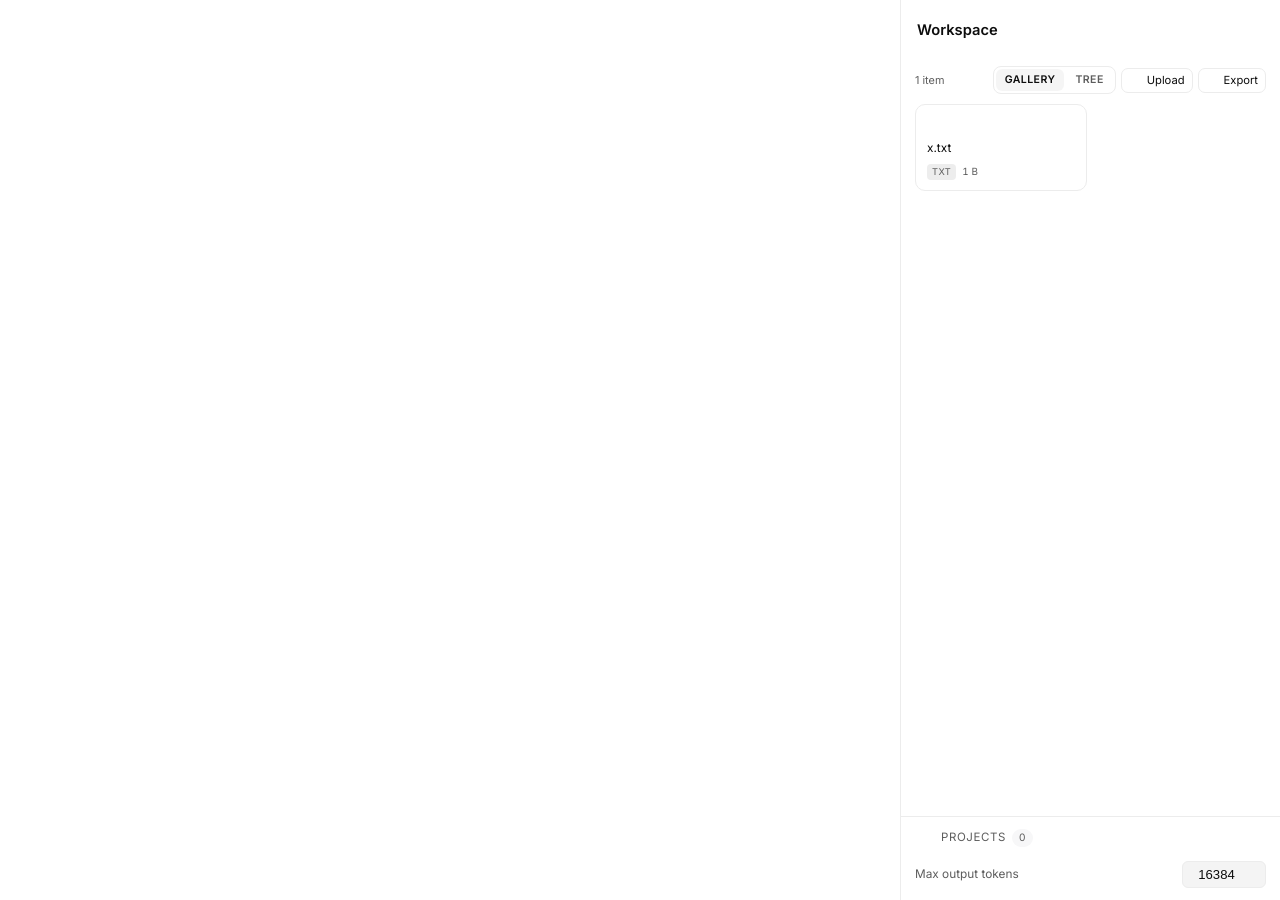
Test: Workspace dock — layout toggle › persists the tree view choice to localStorage
Click the button with class "seg-btn" showing "Tree". click: (1090, 80)
box: [1066, 69, 1113, 91]
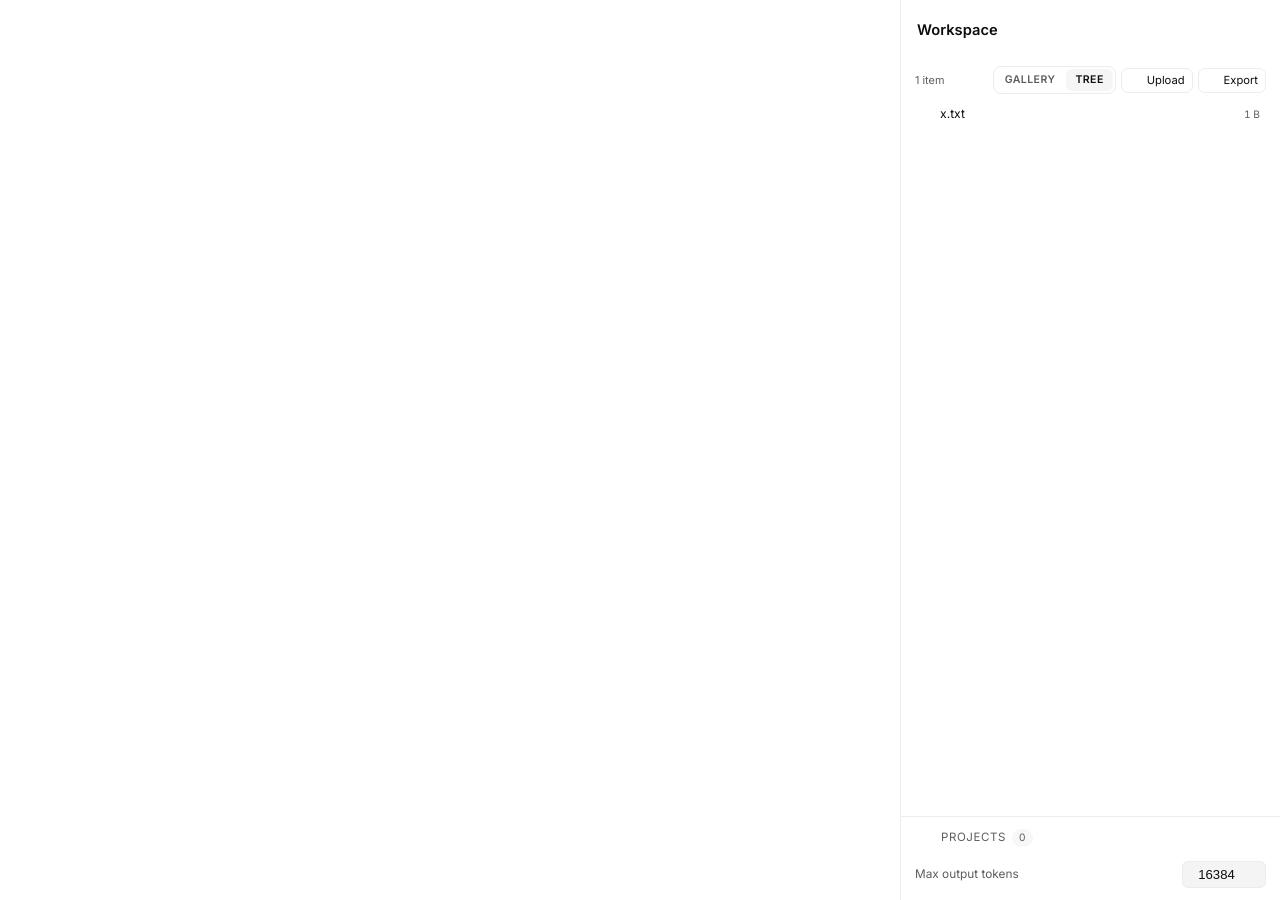
Expected: no elements with class "ws-card" are shown
Expected: the element with class "fp-row" is shown, [915, 102, 1266, 127]
